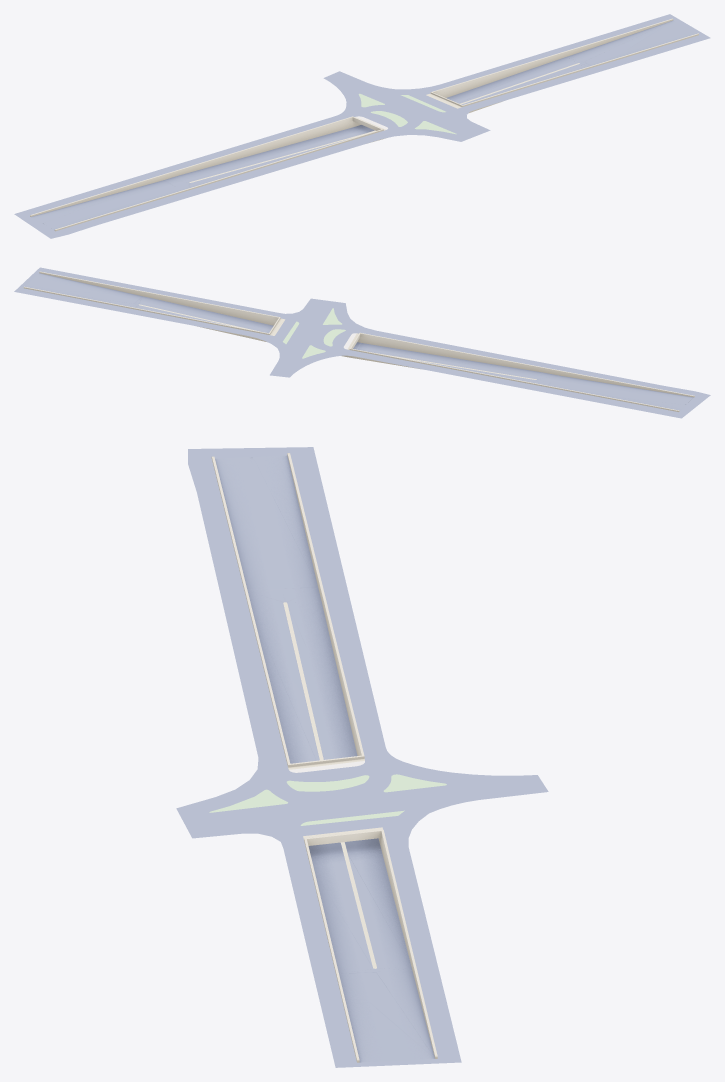
Rendered from Al-Dostyk-colored.glb.
3 renders of one model, top to bottom at view 1: azimuth 30°, elevation 25°; view 2: azimuth 150°, elevation 25°; view 3: azimuth 270°, elevation 25°, orthographic. The views are drawn at different scales.
Visible parts, largest first — view 1: group_5.002, group_4.001, group_1.004, group_2.001; view 2: group_5.002, group_4.001, group_1.004, group_2.001; view 3: group_5.002, group_4.001, group_1.004, group_2.001.
Boxes of the visible parts, x1,y1,x2,y2 form: group_5.002: (14, 14, 710, 238); group_4.001: (31, 20, 696, 230); group_1.004: (30, 18, 698, 231); group_2.001: (189, 63, 579, 182); group_5.002: (14, 267, 710, 418); group_4.001: (25, 273, 693, 410); group_1.004: (23, 271, 694, 411); group_2.001: (139, 304, 536, 379); group_5.002: (176, 447, 548, 1067); group_4.001: (215, 455, 434, 1062); group_1.004: (211, 453, 437, 1062); group_2.001: (283, 602, 376, 968).
Bounding box in the file's own units: 570 × 8 × 144.
Materials: 4 (2 with a texture image).
